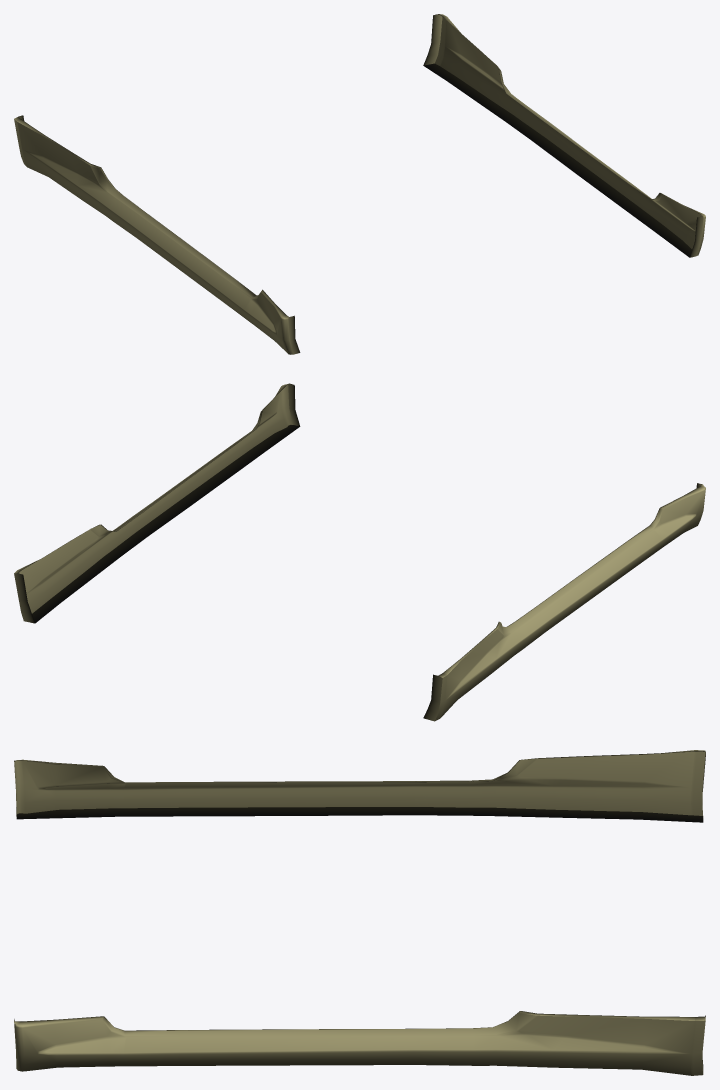
File: R34_Skirt02_Duco.fbx
The picture shows the model from 3 angles, top to bottom: view 1: azimuth 30°, elevation 25°; view 2: azimuth 150°, elevation 25°; view 3: azimuth 270°, elevation 25°; orthographic projection. The views are drawn at different scales.
Parts seen in each view (by area): view 1: R34_Skirt02_Duco; view 2: R34_Skirt02_Duco; view 3: R34_Skirt02_Duco.
Part boxes in pixels (<box>): R34_Skirt02_Duco: <box>14,14,705,354</box>; R34_Skirt02_Duco: <box>14,383,705,721</box>; R34_Skirt02_Duco: <box>14,750,705,1075</box>.
Bounding box in the file's own units: 179 × 18.89 × 193.
